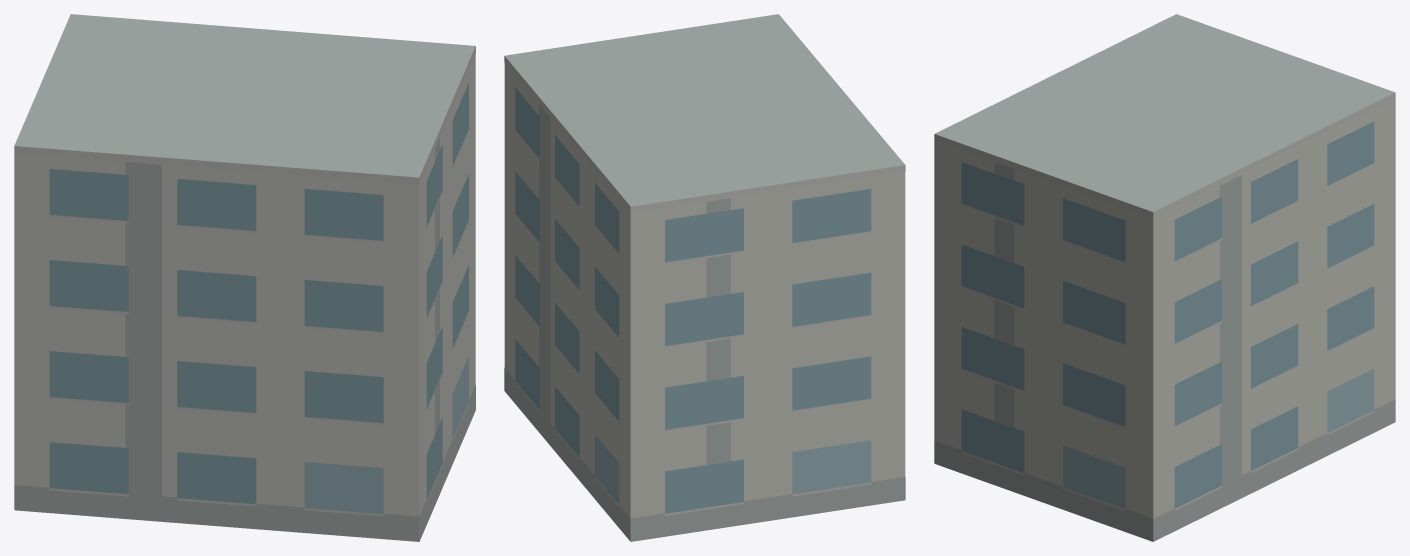
The model's file is residential-02a08f6a-da64-4cf3-8967-c73438346188.glb.
3 views of the same model, side by side, from view 1: azimuth 30°, elevation 25°; view 2: azimuth 150°, elevation 25°; view 3: azimuth 270°, elevation 25° (orthographic). The views are drawn at different scales.
Visible parts, largest first — view 1: residential-02a08f6a-da64-4cf3-8967-c73438346188.tmp; view 2: residential-02a08f6a-da64-4cf3-8967-c73438346188.tmp; view 3: residential-02a08f6a-da64-4cf3-8967-c73438346188.tmp.
Part boxes in pixels (<box>): residential-02a08f6a-da64-4cf3-8967-c73438346188.tmp: <box>14,14,475,541</box>; residential-02a08f6a-da64-4cf3-8967-c73438346188.tmp: <box>504,14,905,541</box>; residential-02a08f6a-da64-4cf3-8967-c73438346188.tmp: <box>934,14,1395,541</box>.
Bounding box in the file's own units: 15.73 × 12.2 × 15.47.
